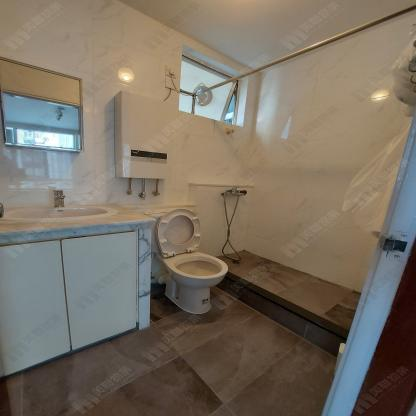Exhaust Fan: (192, 81, 220, 112)
Faucet: (49, 189, 69, 208)
Toilet: (144, 207, 228, 314)
Toilet Sink: (0, 204, 157, 244)
Water Cubicle: (187, 6, 415, 357)
Water Heater: (113, 91, 178, 180)
